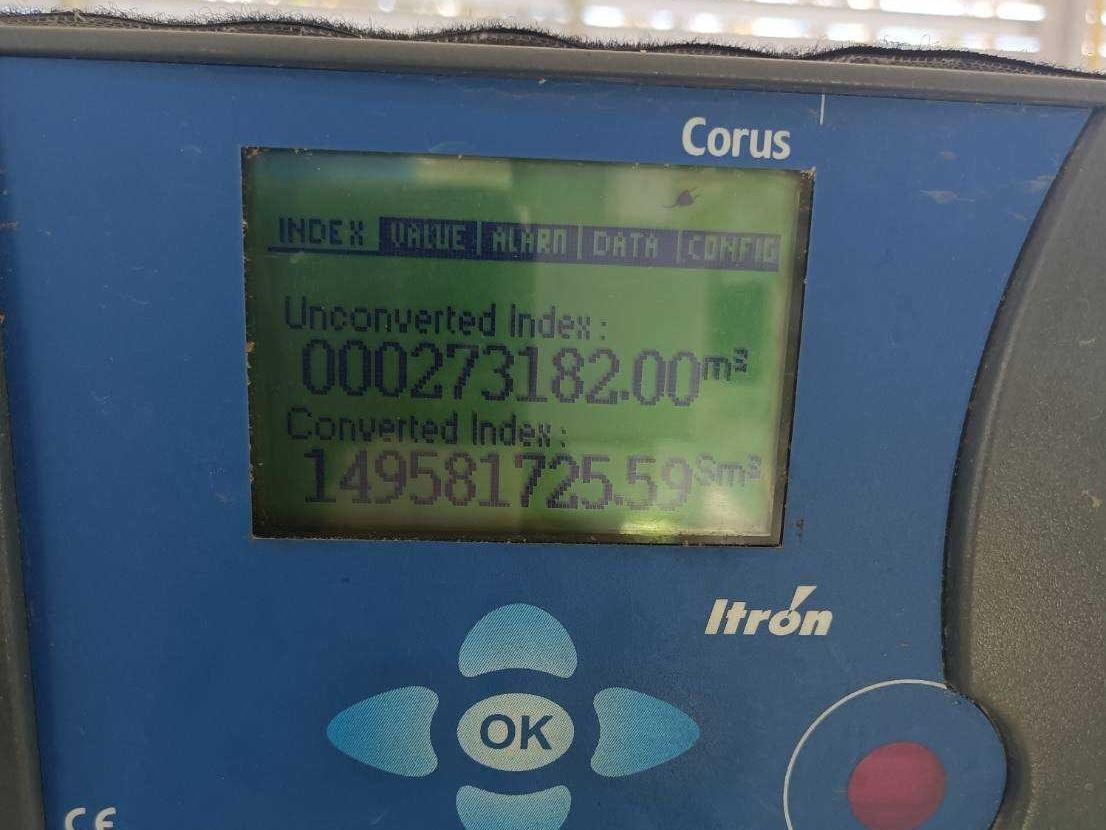digital_screen: (239, 148, 815, 545)
